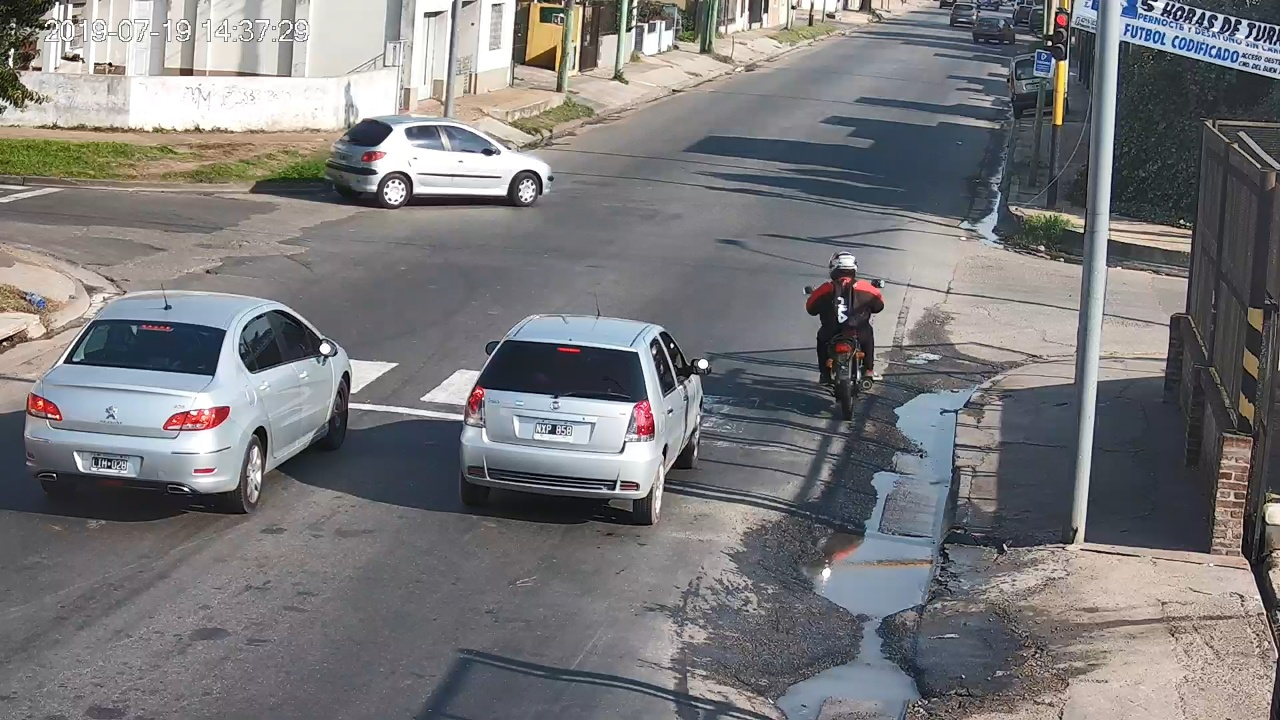car: (24, 292, 351, 515), (459, 314, 708, 527)
motorcycle: (803, 277, 885, 419)
traffic light: (1055, 13, 1068, 60)
